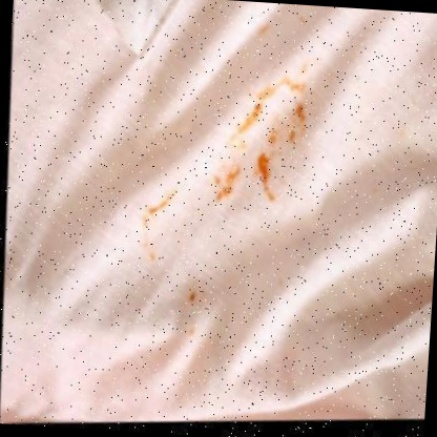kimchi: (134, 219, 164, 267), (253, 155, 280, 204), (211, 168, 244, 207), (141, 189, 183, 216), (257, 79, 307, 98), (289, 100, 313, 132), (226, 121, 256, 139), (256, 22, 276, 41), (285, 128, 302, 148), (243, 102, 263, 119), (183, 287, 200, 304), (265, 124, 278, 144), (298, 61, 314, 77), (297, 15, 314, 30), (187, 324, 201, 339), (393, 127, 403, 138)
